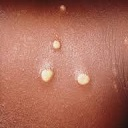Wart: (39, 1, 67, 85), (76, 72, 94, 88)
